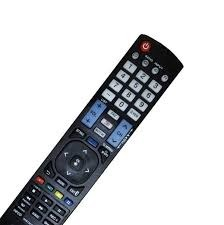remote control: (18, 16, 182, 225)
